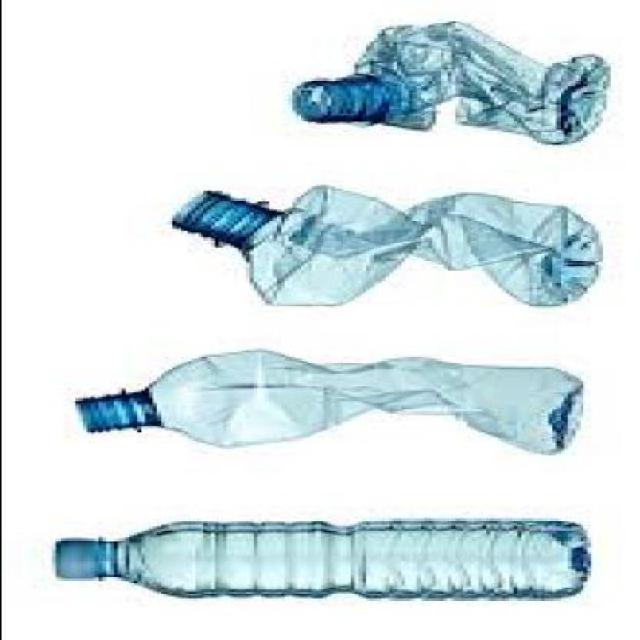PLASTIC: (70, 352, 578, 457), (167, 187, 598, 310), (50, 522, 582, 601), (284, 21, 601, 147), (46, 542, 102, 582)
